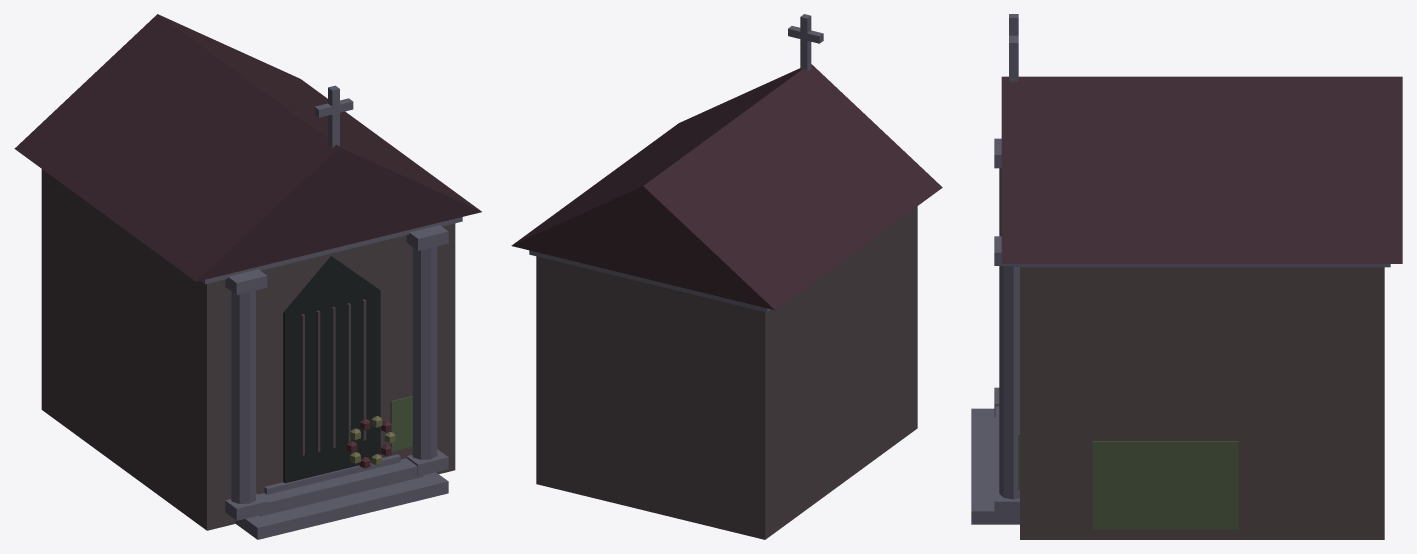
The model's file is cripta.glb.
3 renders of one model, left to right at view 1: azimuth 30°, elevation 25°; view 2: azimuth 150°, elevation 25°; view 3: azimuth 270°, elevation 25°, orthographic. The views are drawn at different scales.
Visible parts, largest first — view 1: Cripta; view 2: Cripta; view 3: Cripta.
Boxes of the visible parts, box(x1,y1,x2,y2) form: Cripta: box(14, 14, 481, 539); Cripta: box(511, 14, 942, 539); Cripta: box(971, 14, 1402, 539).
Bounding box in the file's own units: 3 × 4.15 × 3.55.
